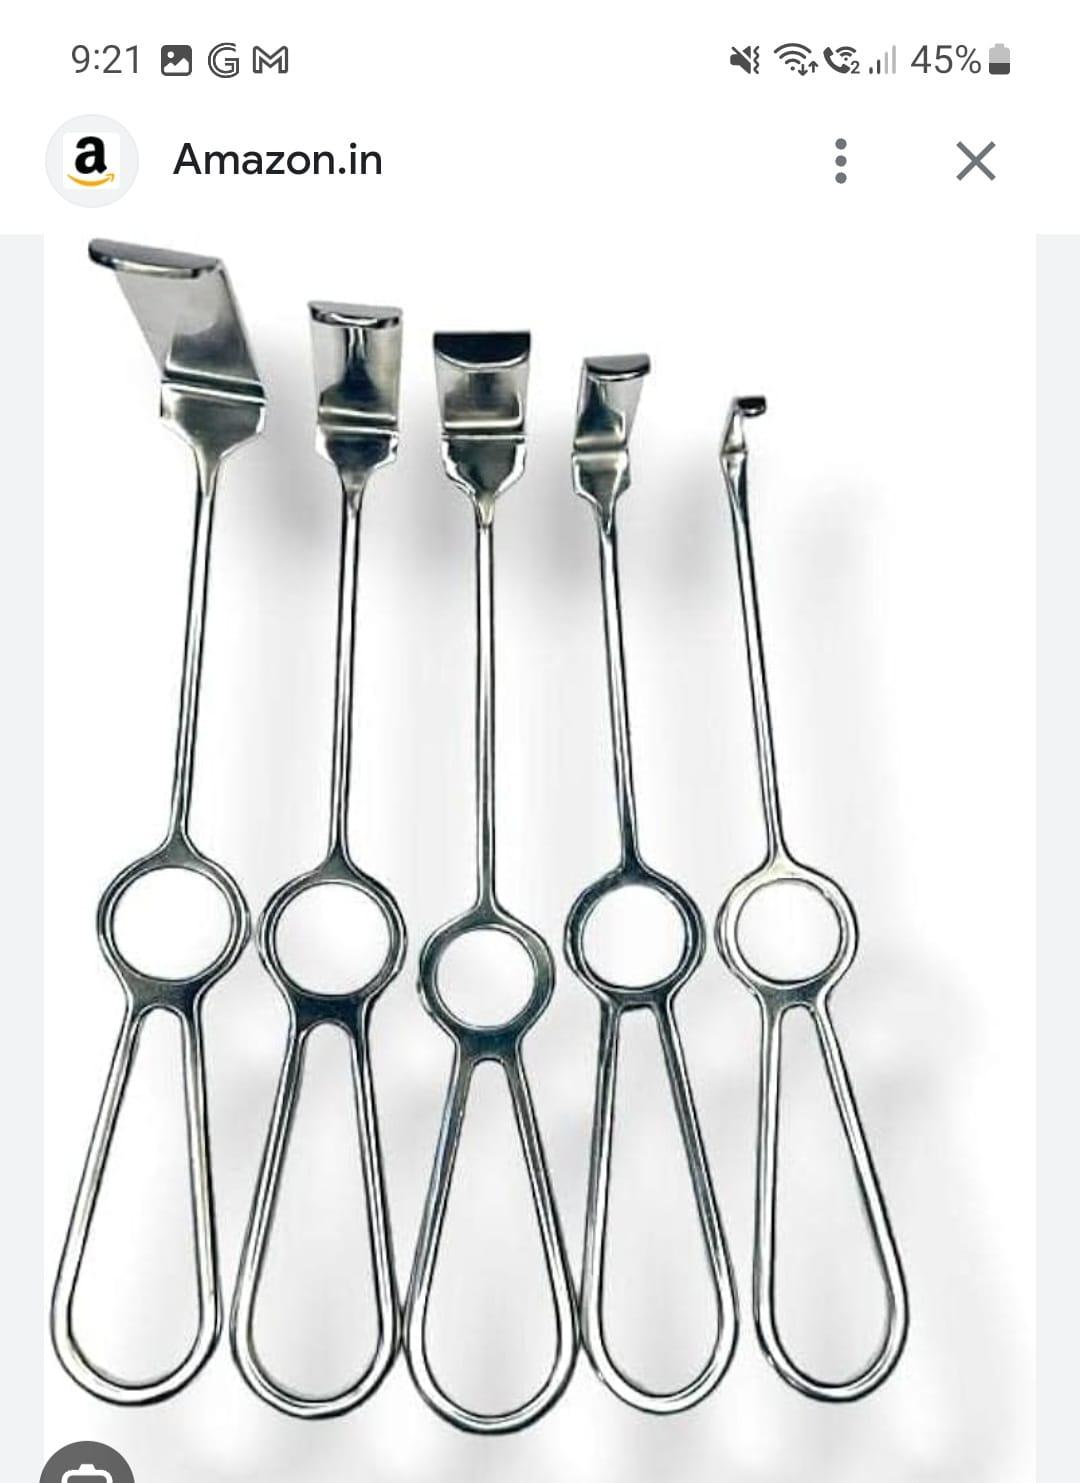Langenbach Retractor: (230, 280, 440, 1432), (50, 218, 222, 1402), (395, 318, 565, 1437), (563, 333, 735, 1413)
